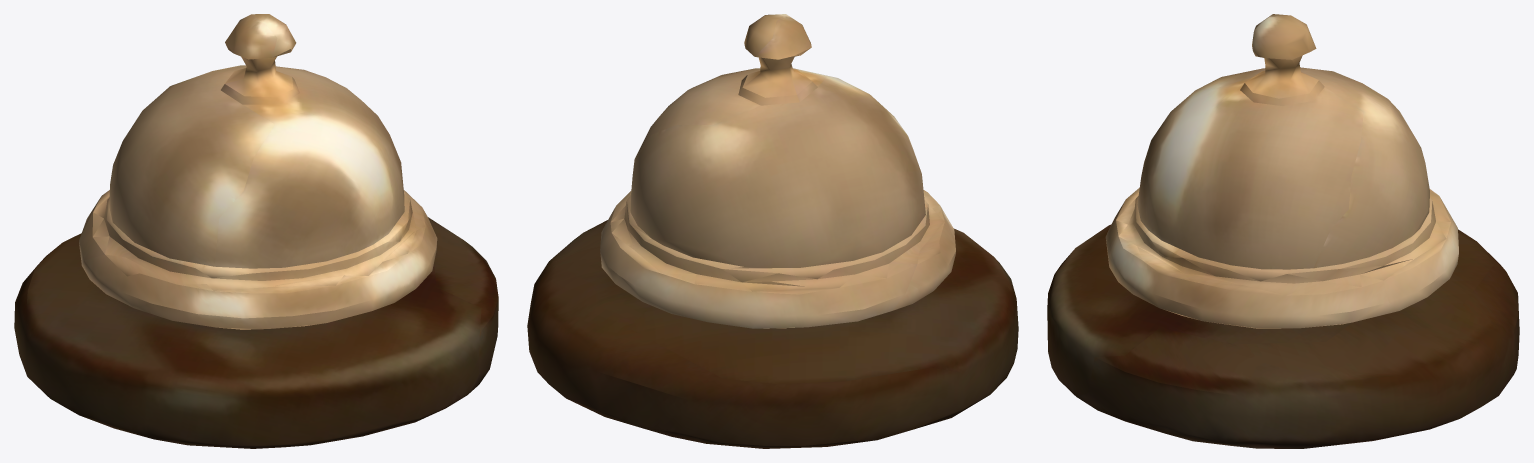
Rendered from serviceBellV2.glb.
The picture shows the model from 3 angles, left to right: view 1: azimuth 30°, elevation 25°; view 2: azimuth 150°, elevation 25°; view 3: azimuth 270°, elevation 25°; orthographic projection.
Visible parts, largest first — view 1: model; view 2: model; view 3: model.
Boxes of the visible parts, box(x1,y1,x2,y2) form: model: box(14, 14, 498, 448); model: box(527, 14, 1018, 448); model: box(1047, 14, 1519, 448).
Size of the model in its own units: 1.89 by 1.43 by 1.82.
1 material, 1 textured.
